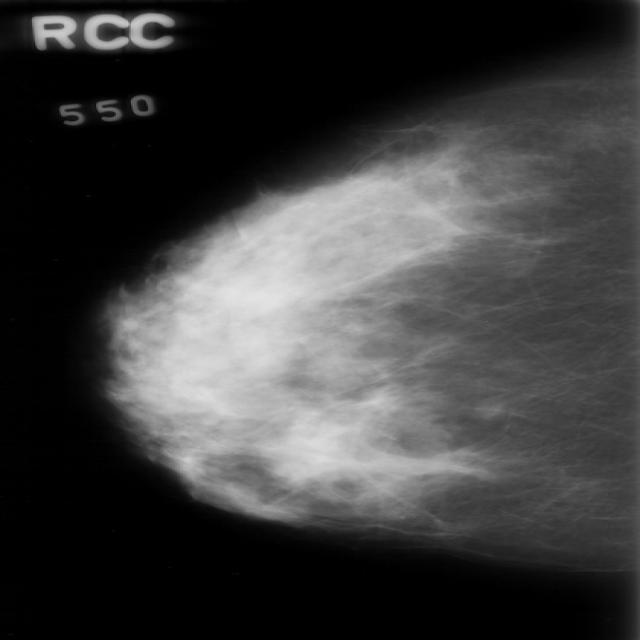tumour: (469, 394, 502, 419)
